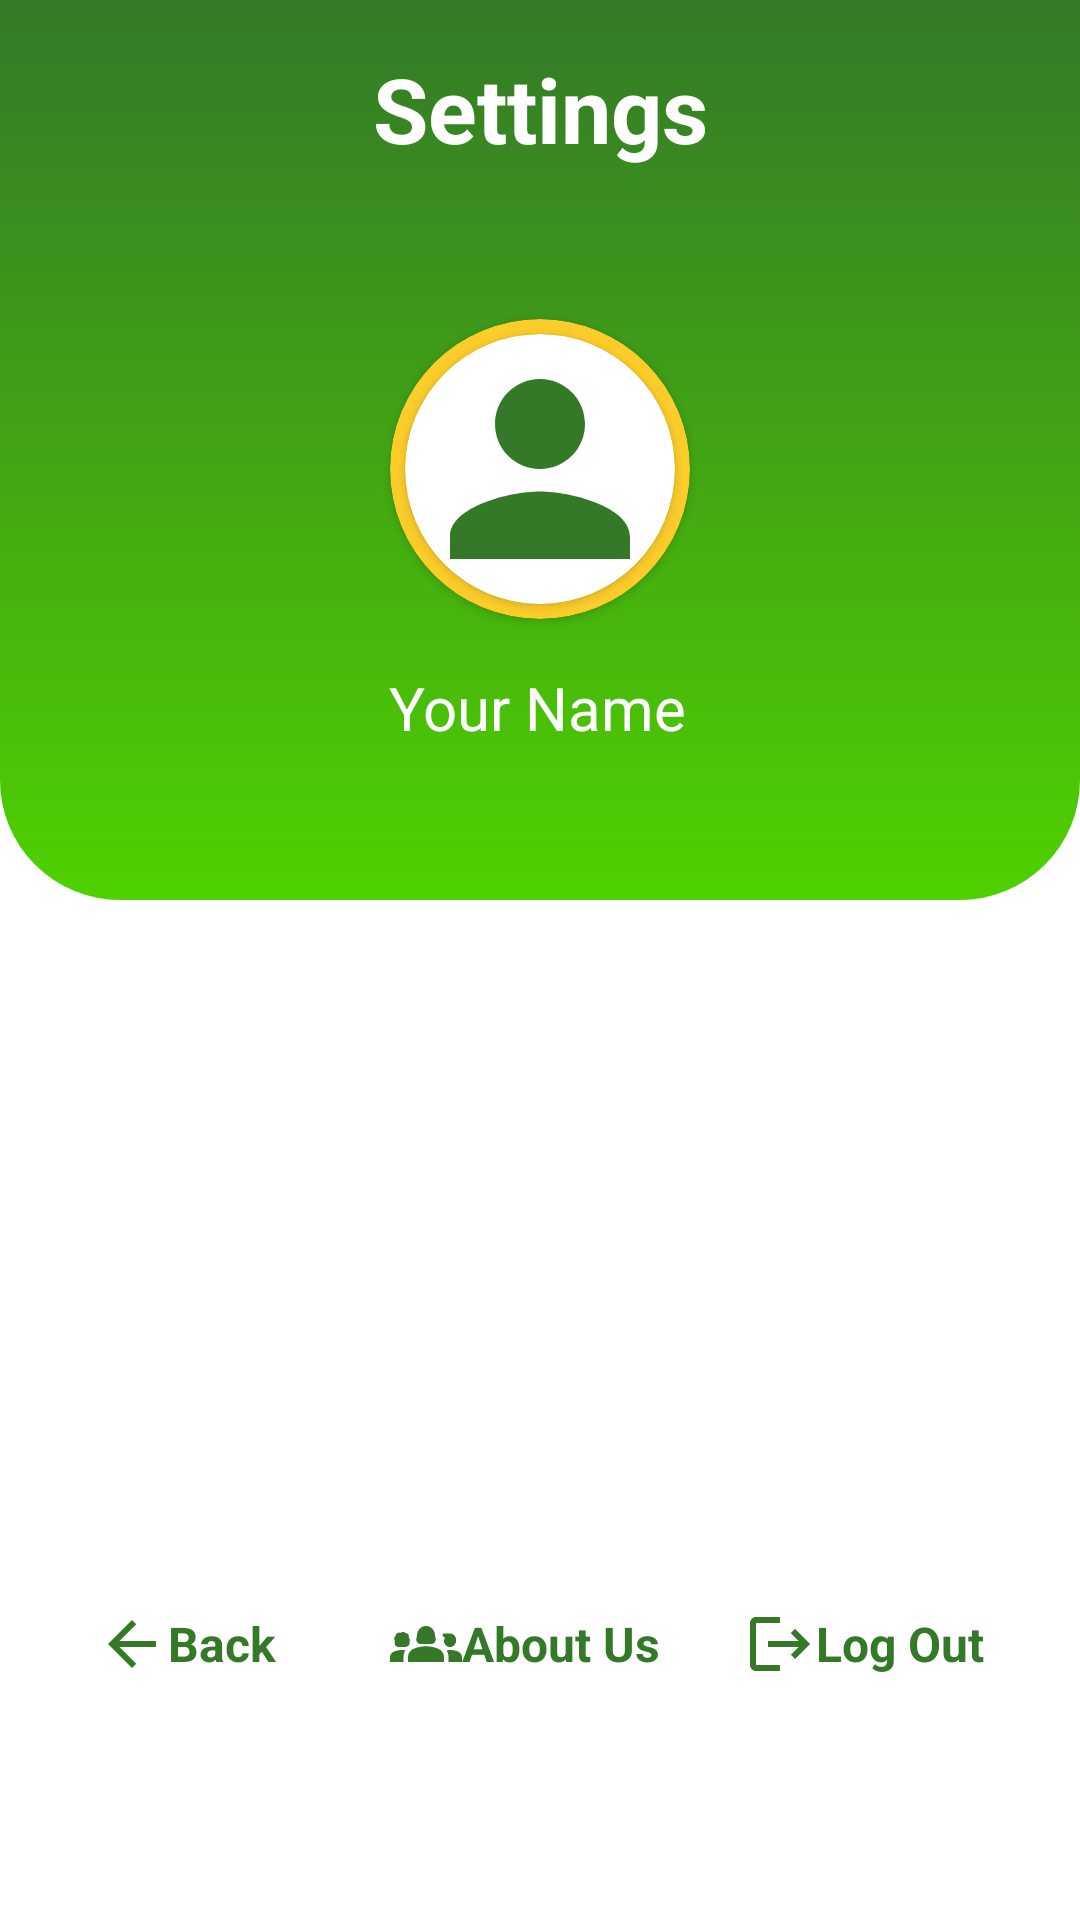

Icons on this 1080×1920 Android screen, each with the point to tap as (x,y):
person: (540,469)
